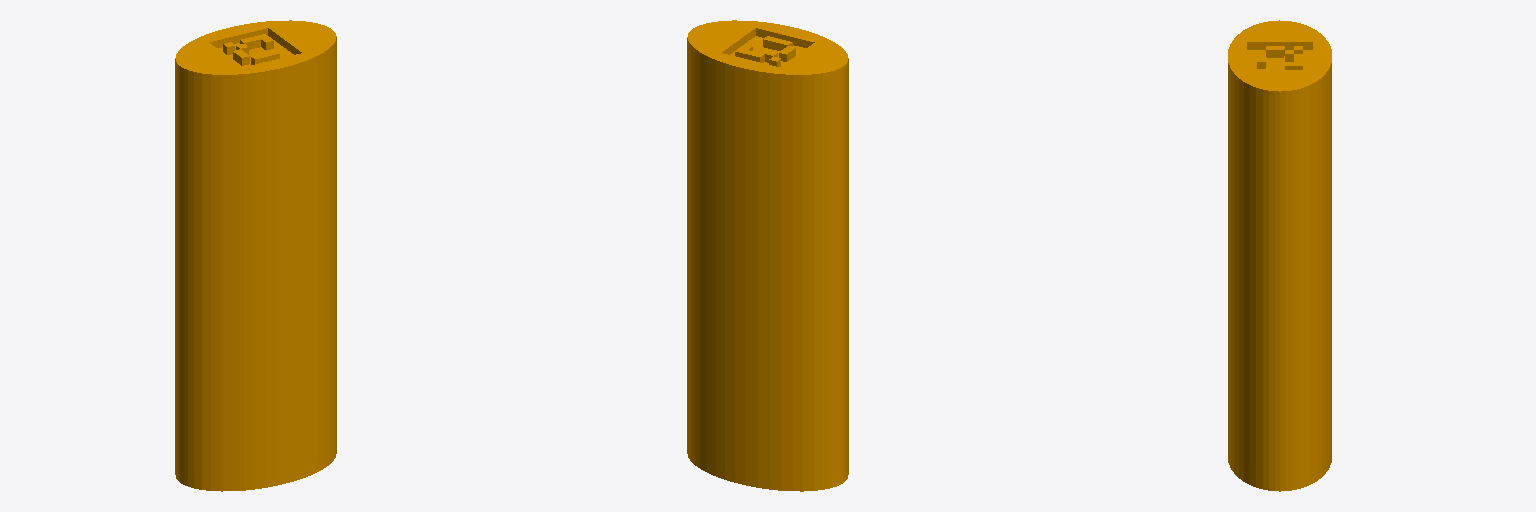
URDF robot description (20x12p5_ellipse):
<?xml version="1.0" ?>
<robot name="20x12p5_ellipse">

    <link name="20x12p5_ellipse">
        <visual>
            <origin rpy="1.5707963267948966 0 0" xyz="0 0 0"/>
            <geometry>
                <mesh filename="Shapes/20_r_12p5_ellipse.obj" scale="1 1 1"/>
            </geometry>
        </visual>
        <collision>
            <origin rpy="1.5707963267948966 0 0" xyz="0 0 0"/>
            <geometry>
                <mesh filename="Shapes/20_r_12p5_ellipse.obj" scale="1 1 1"/>
            </geometry>
        </collision>
        <inertial>
            <mass value="0.3"/>
            <inertia ixx="0.000029435425" ixy="0.0" ixz="0.0" iyy="0.000029435425" iyz="0.0" izz="0.00000725805"/>
        </inertial>
    </link>

</robot>

--- Render facts (derived) ---
3 views of the same robot in one strip: view 1: azimuth 30°, elevation 25°; view 2: azimuth 150°, elevation 25°; view 3: azimuth 270°, elevation 25° (orthographic).
Model 20x12p5_ellipse with 1 links and 0 joints (none), rooted at 20x12p5_ellipse, posed every joint at zero.
Links seen in each view (by area): view 1: 20x12p5_ellipse; view 2: 20x12p5_ellipse; view 3: 20x12p5_ellipse.
Boxes of the visible links, x1=… form: 20x12p5_ellipse: x1=175, y1=20, x2=336, y2=491; 20x12p5_ellipse: x1=687, y1=20, x2=848, y2=491; 20x12p5_ellipse: x1=1228, y1=20, x2=1331, y2=491.
Bounding box of the posed robot: 0.04 × 0.0249 × 0.105 m (x, y, z).
1 mesh visuals loaded from 1 distinct referenced files (1 OBJ).
